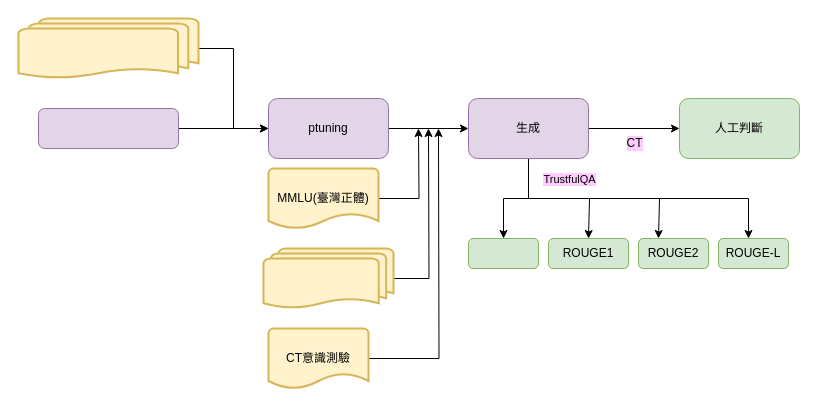
Image size: 817x406. Some labels were removed from this diagram. The centre of each missing label's shape, as x and y in pixels:
"BLEU" belongs at pixel 503 253.
"ChatGLM-6b預訓練模型" belongs at pixel 108 128.
"train.json/valid.json" belongs at pixel 108 48.
"TruthfulQA+自訂" belongs at pixel 328 278.
